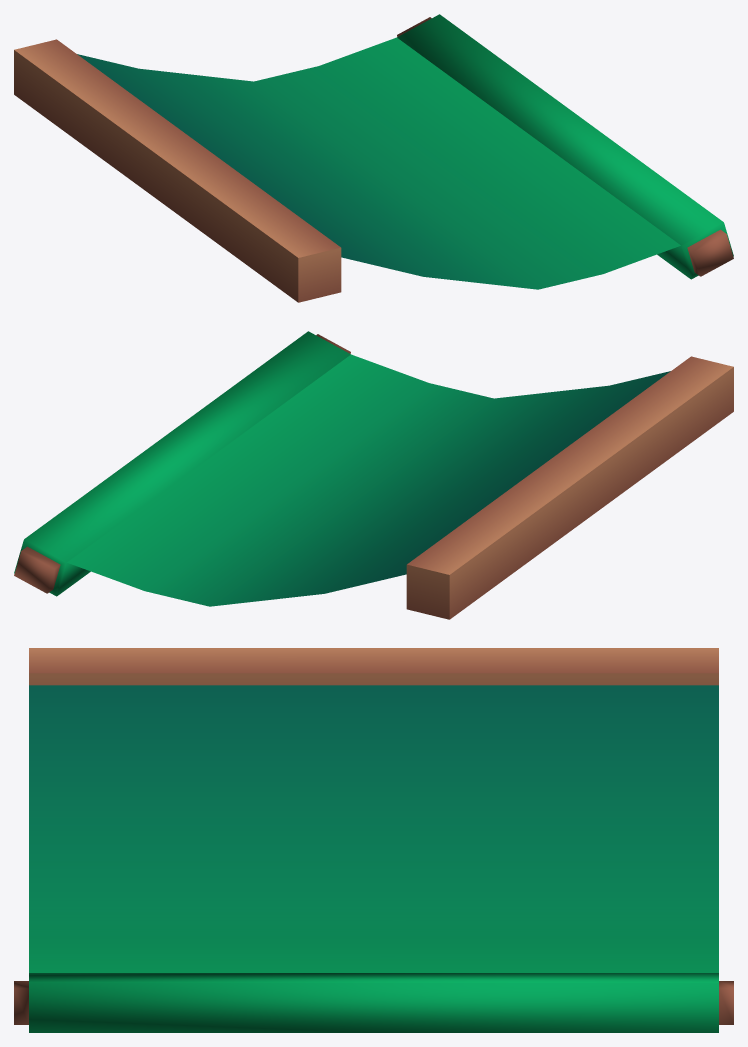
File: Parasol02.fbx
3 renders of one model, top to bottom at view 1: azimuth 30°, elevation 25°; view 2: azimuth 150°, elevation 25°; view 3: azimuth 270°, elevation 25°, orthographic. The views are drawn at different scales.
Parts seen in each view (by area): view 1: Parasol02; view 2: Parasol02; view 3: Parasol02.
Part boxes in pixels (x1=…): Parasol02: x1=14, y1=14, x2=733, y2=302; Parasol02: x1=14, y1=331, x2=733, y2=619; Parasol02: x1=14, y1=648, x2=733, y2=1032.
Size of the model in its own units: 0.8901 by 0.2294 by 1.05.
Materials: 1 (1 with a texture image).
